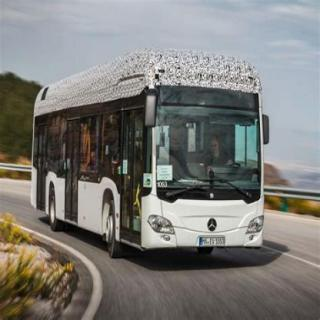Normal_vehicle: (13, 34, 280, 285)
